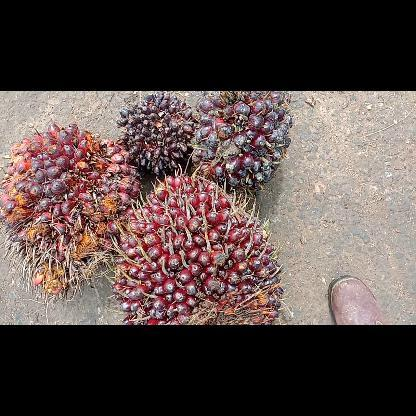Kurang masak: (110, 172, 286, 324), (190, 91, 294, 195)
TBS abnormal: (115, 91, 197, 175)
TBS masak: (0, 119, 143, 301)
